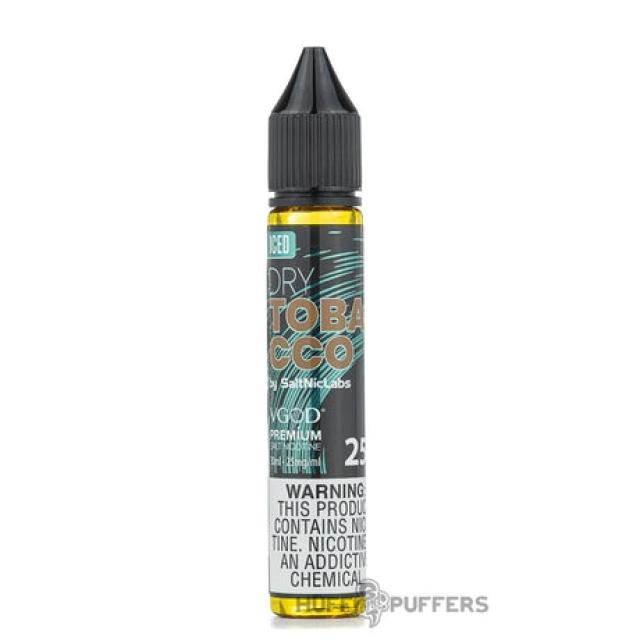Hazard: (263, 45, 367, 619)
